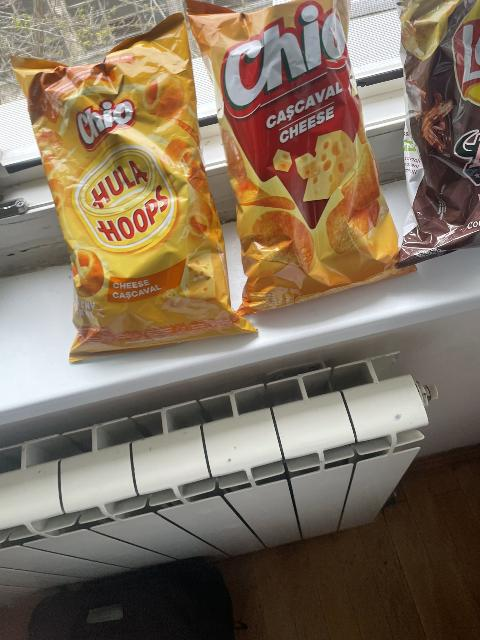Chio Cascaval 125g: (195, 0, 395, 309)
Chio Hula Hoops Cheese 70g: (9, 13, 245, 344)
Lays Beef Grilled Ribs 125g: (386, 0, 480, 273)
